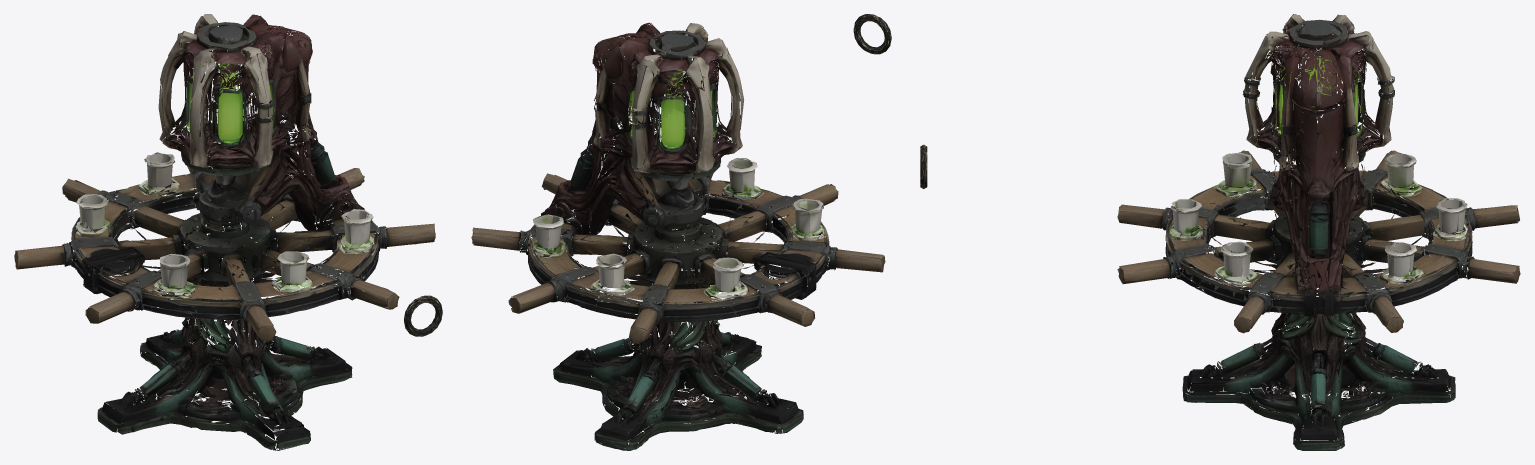
The model's file is tallow_communal_dose_wheel.glb.
3 renders of one model, left to right at view 1: azimuth 30°, elevation 25°; view 2: azimuth 150°, elevation 25°; view 3: azimuth 270°, elevation 25°, orthographic. The views are drawn at different scales.
Visible parts, largest first — view 1: node_0, HB_ROTOR_00; view 2: node_0, HB_ROTOR_00; view 3: node_0.
Part boxes in pixels (<box>): node_0: <box>14,14,435,450</box>; HB_ROTOR_00: <box>404,295,442,336</box>; node_0: <box>471,22,885,450</box>; HB_ROTOR_00: <box>853,14,891,54</box>; node_0: <box>1117,14,1520,450</box>.
Bounding box in the file's own units: 0.9829 × 0.9954 × 1.48.
Materials: 1 (1 with a texture image).
